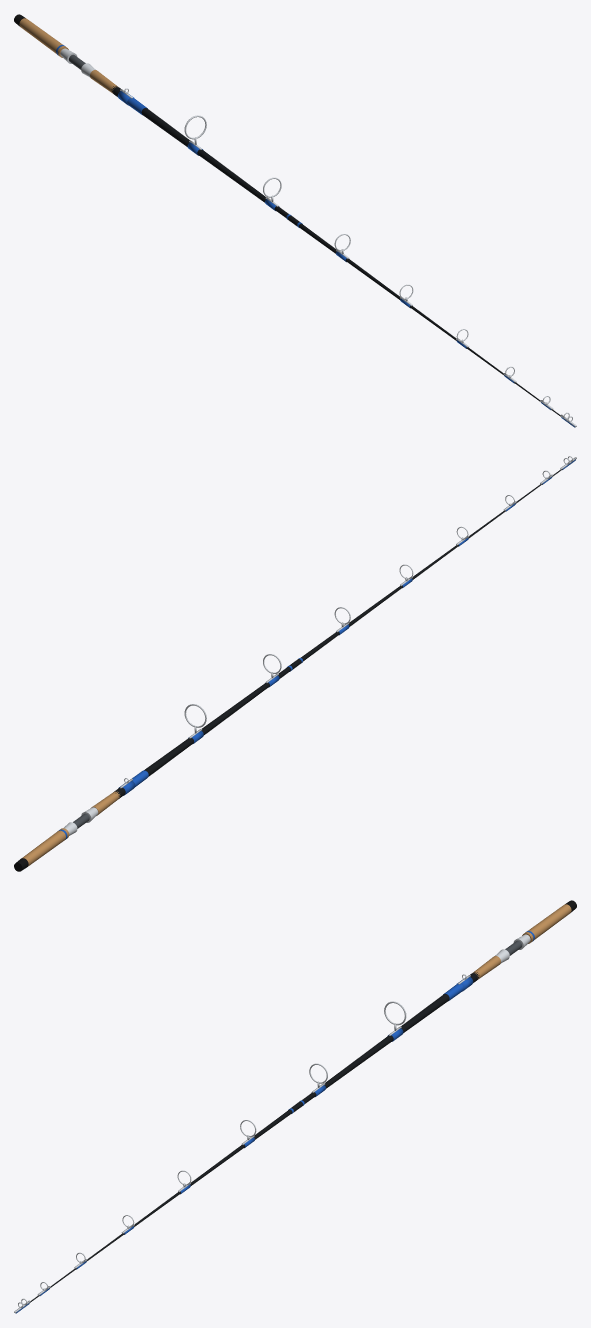
File: 17_spinning_Shimano_Catana_EX_Spinning.obj
The picture shows the model from 3 angles, top to bottom: view 1: azimuth 30°, elevation 25°; view 2: azimuth 150°, elevation 25°; view 3: azimuth 330°, elevation 25°; orthographic projection.
Parts seen in each view (by area): view 1: Blank, Guides_Metal, Grip, Accent; view 2: Blank, Guides_Metal, Grip, Accent; view 3: Blank, Guides_Metal, Grip, Accent.
Part boxes in pixels (x1,y1,x2,y2): Blank: (111, 86, 560, 416); Guides_Metal: (120, 88, 576, 426); Grip: (19, 18, 117, 93); Accent: (56, 45, 575, 427); Blank: (113, 469, 562, 798); Guides_Metal: (120, 456, 576, 788); Grip: (22, 791, 120, 866); Accent: (58, 459, 575, 839); Blank: (30, 972, 479, 1302); Guides_Metal: (14, 974, 470, 1312); Grip: (473, 904, 571, 979); Accent: (15, 931, 534, 1313).
Bounding box in the file's own units: 0.0556 × 0.0919 × 2.42.
